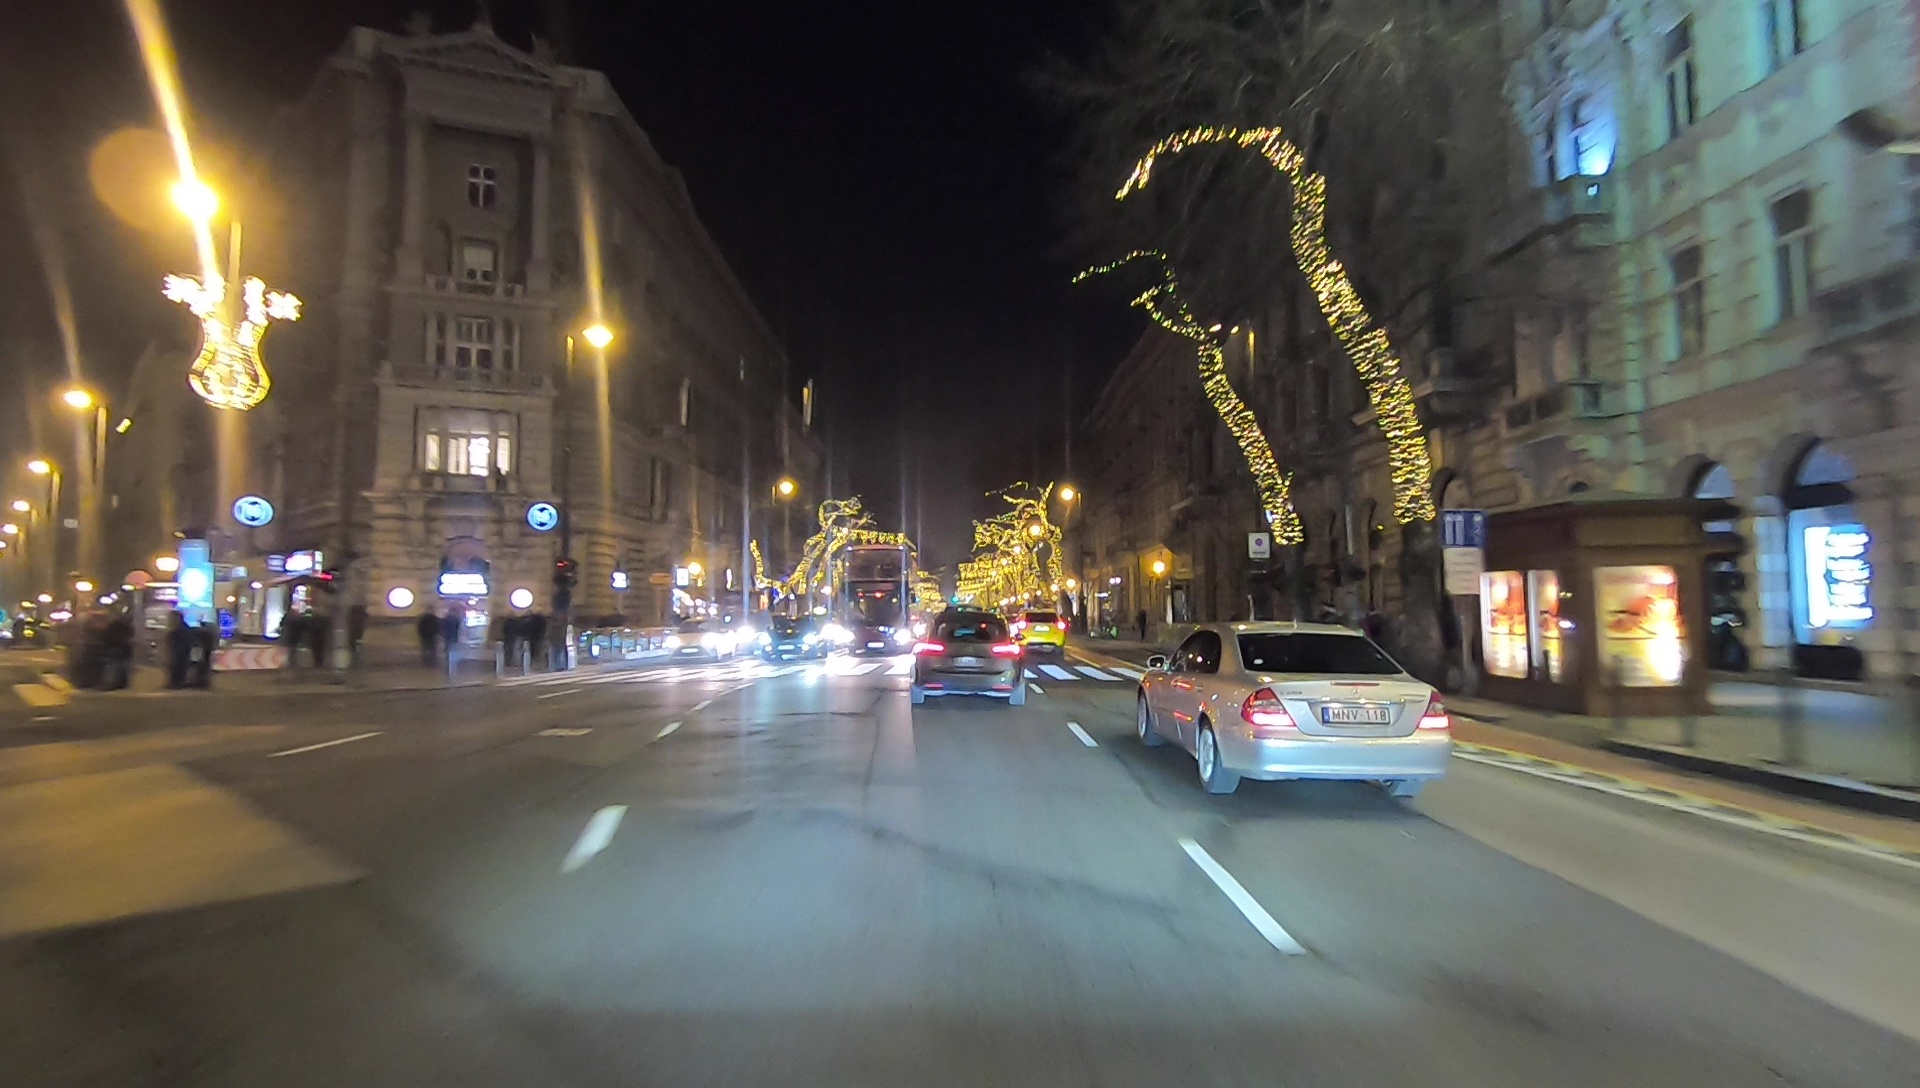person: (439, 604, 462, 669), (523, 611, 545, 665), (415, 606, 438, 656), (501, 615, 519, 667)
